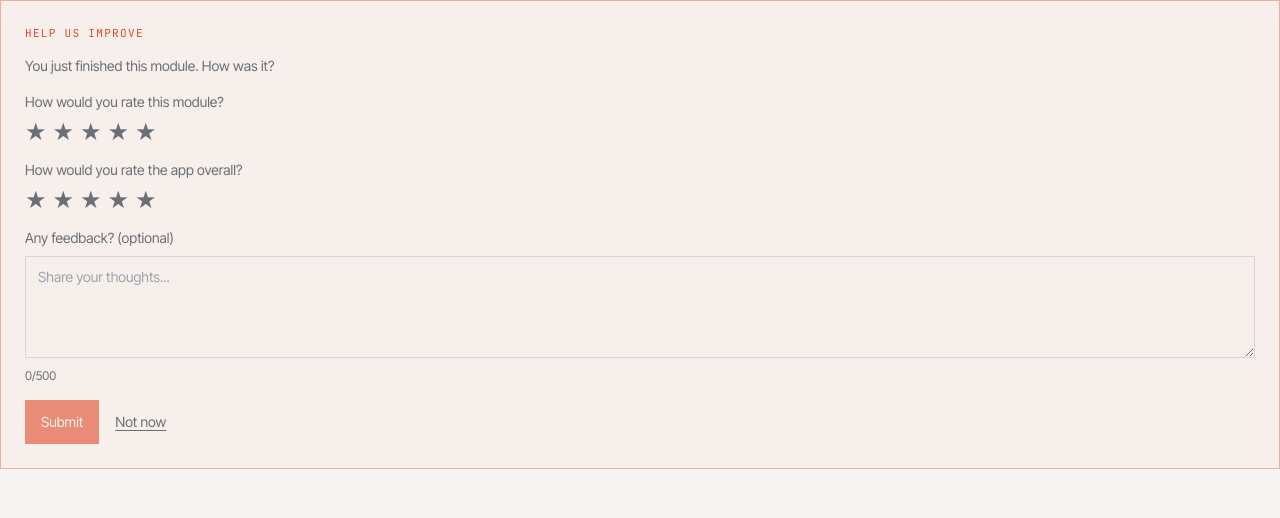
it: FeedbackPrompt › shows an inline error on 409 instead of alerting
Click the 5th button "★".
click(146, 132)  # box x1=135 y1=120 x2=157 y2=144
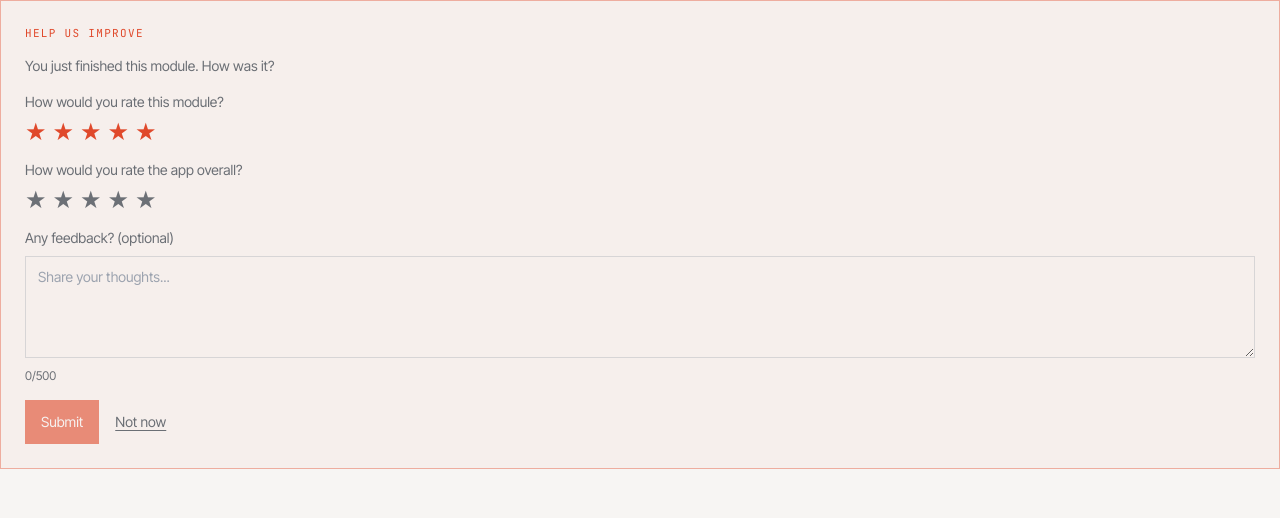
Click the 10th button "★".
click(146, 200)  # box x1=135 y1=188 x2=157 y2=212
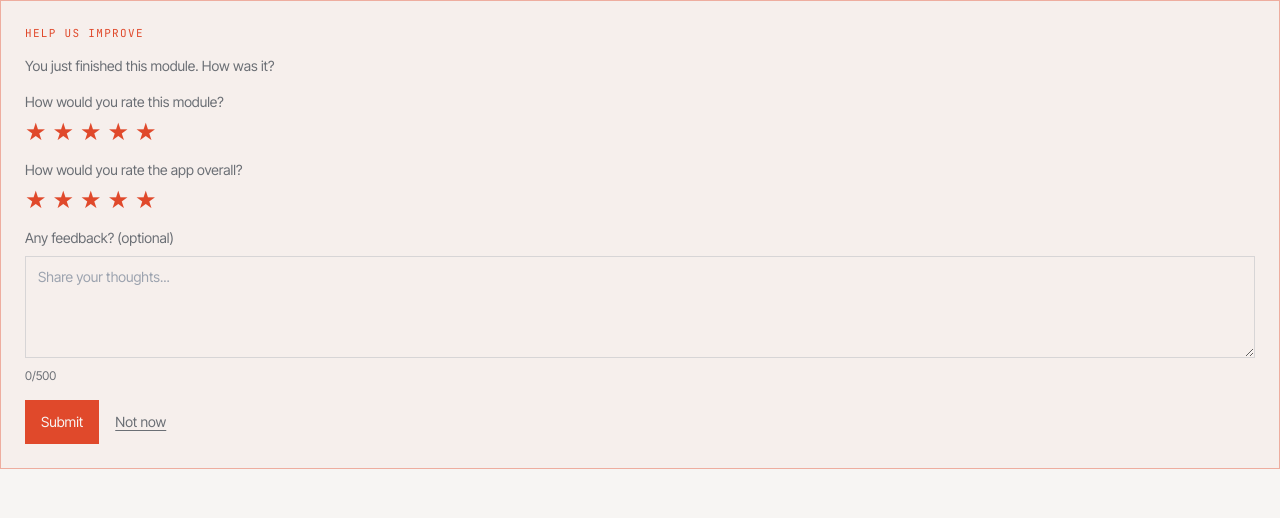
Click the button "Submit".
click(62, 422)  # box x1=25 y1=400 x2=99 y2=444
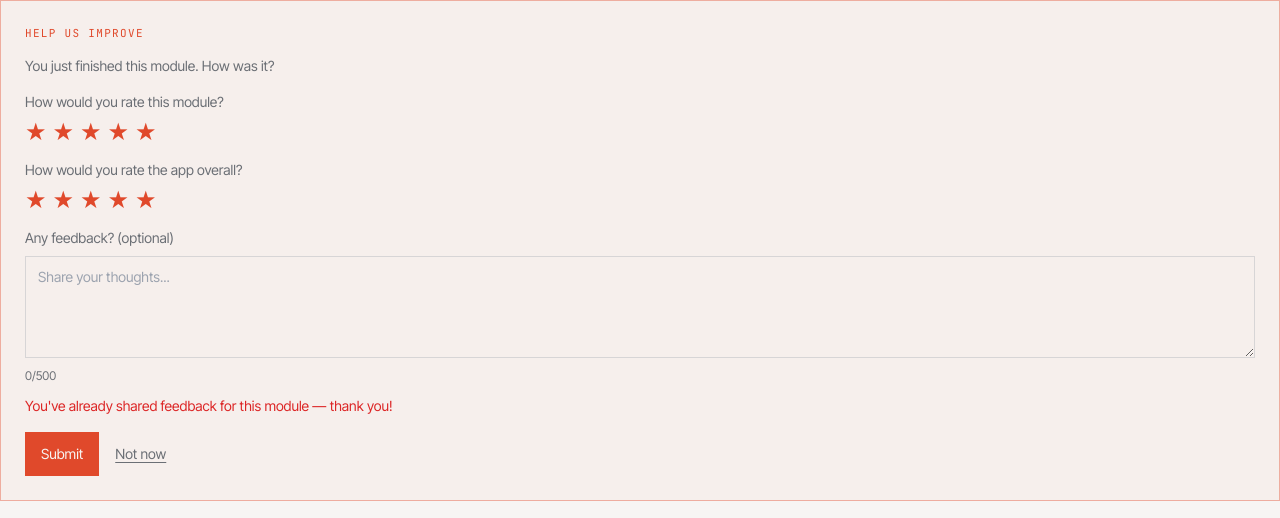
Result: the text "You've already shared feedback for this module — thank you!" is shown at x1=25 y1=396 x2=392 y2=414
